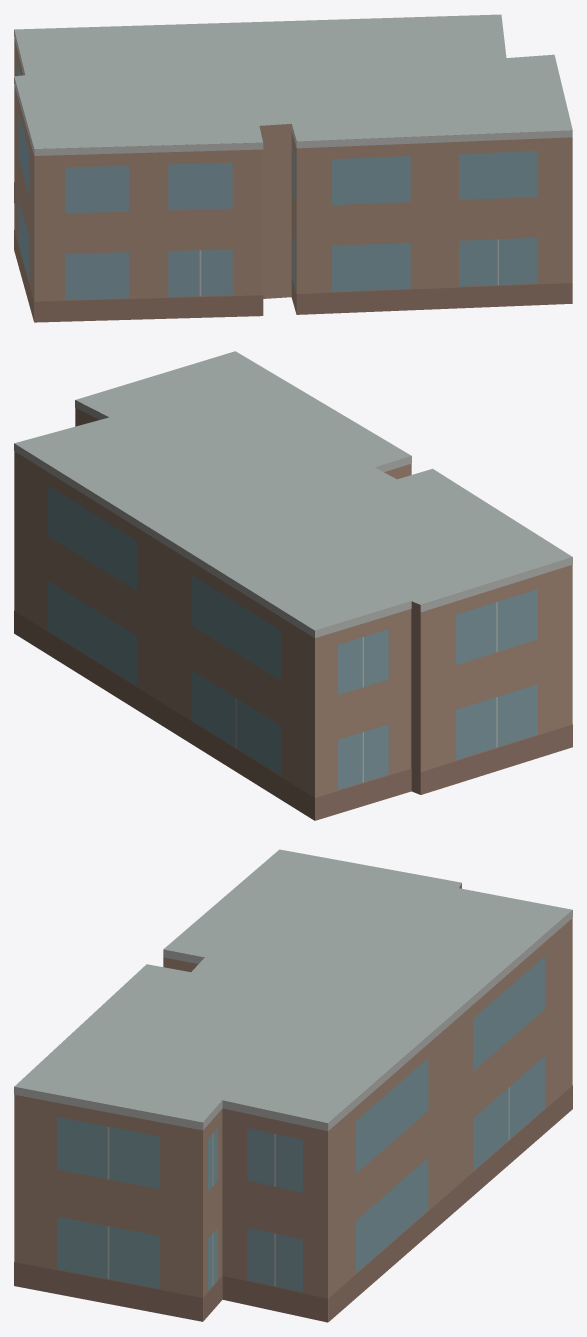
The model's file is survey-upis-32685397.glb.
3 renders of one model, top to bottom at view 1: azimuth 30°, elevation 25°; view 2: azimuth 150°, elevation 25°; view 3: azimuth 270°, elevation 25°, orthographic. The views are drawn at different scales.
Visible parts, largest first — view 1: survey-upis-32685397.tmp; view 2: survey-upis-32685397.tmp; view 3: survey-upis-32685397.tmp.
Boxes of the visible parts, left/top/right/bottom form: survey-upis-32685397.tmp: left=14, top=14, right=572, bottom=322; survey-upis-32685397.tmp: left=14, top=351, right=572, bottom=820; survey-upis-32685397.tmp: left=14, top=849, right=572, bottom=1322.
Size of the model in its own units: 17.99 by 6.1 by 15.51.
